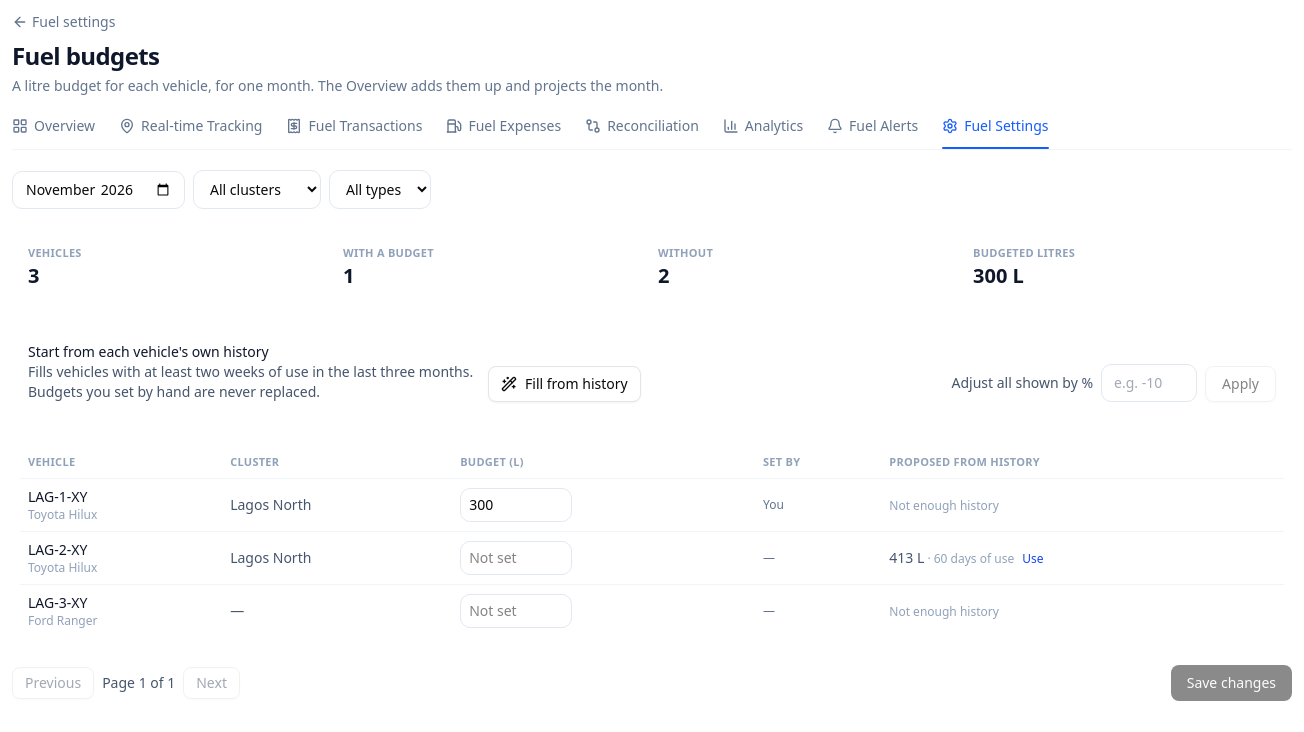
Test: fuel budgets page › will not save a negative or non-numeric budget
Check: the text "LAG-1-XY" is shown, box [28,487,87,506]
Replace the text in the field named "Budget for LAG-1-XY" with "-20" at (516, 505), box [460,488,572,522]
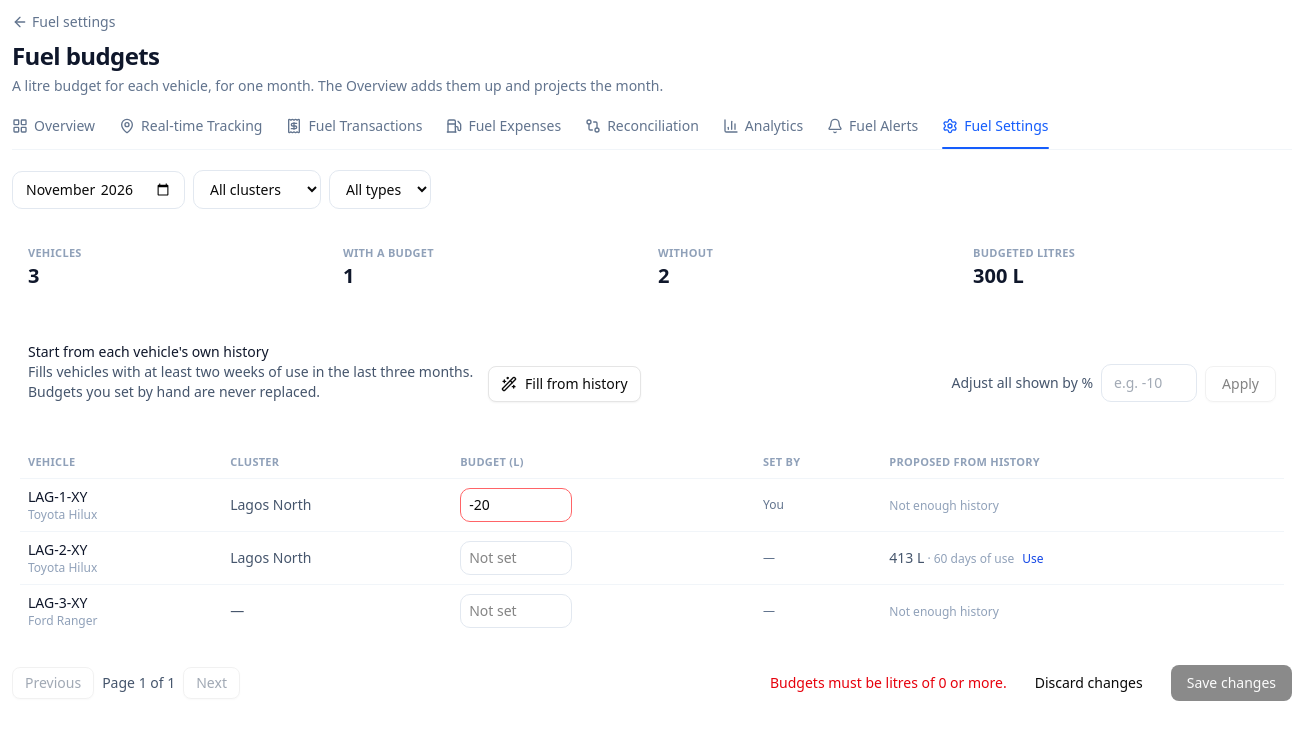
Check: the button "Save changes" is disabled, box [1171,665,1292,701]
Check: the text "Budgets must be litres of 0 or more." is shown, box [770,673,1007,693]
